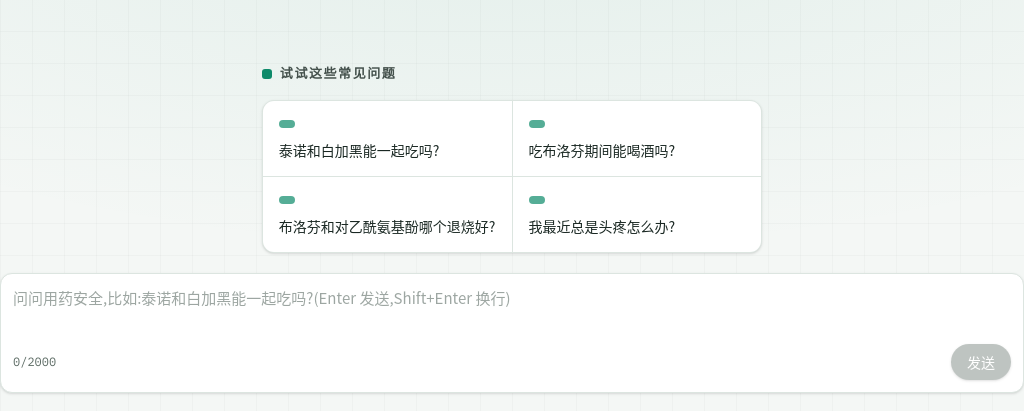
Test case: ChatView › 手动输入并发送
The image size is (1024, 411).
Step 1. Type "布洛芬怎么吃?" into the text box → (512, 310), box [13,286,1011,335]
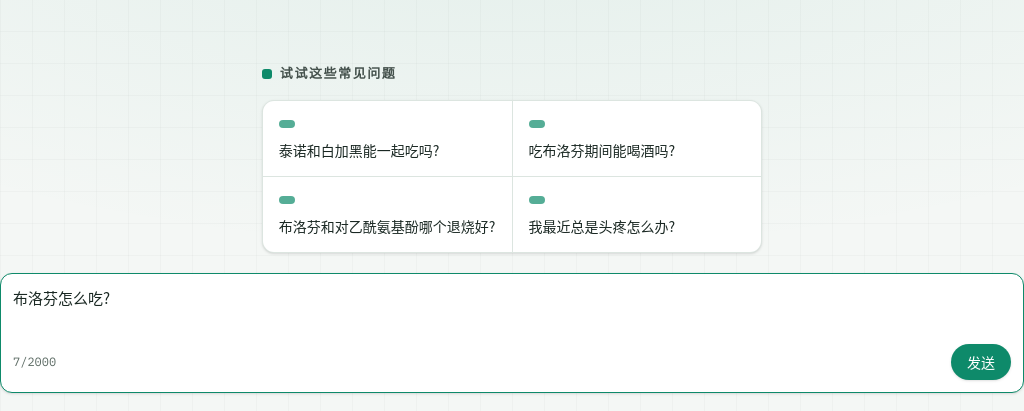
Step 2. Click the button "发送" → (981, 362), box [951,344,1011,380]
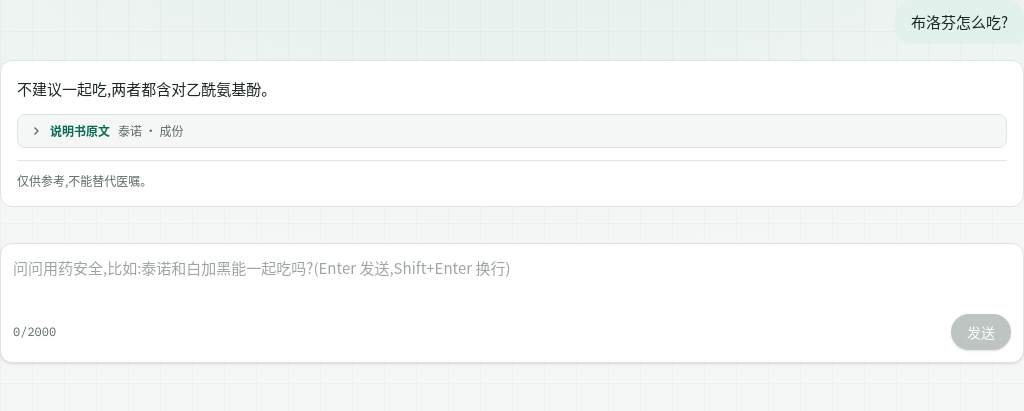
Expected: the text "不建议一起吃,两者都含对乙酰氨基酚。" is shown, [17,78,276,99]
